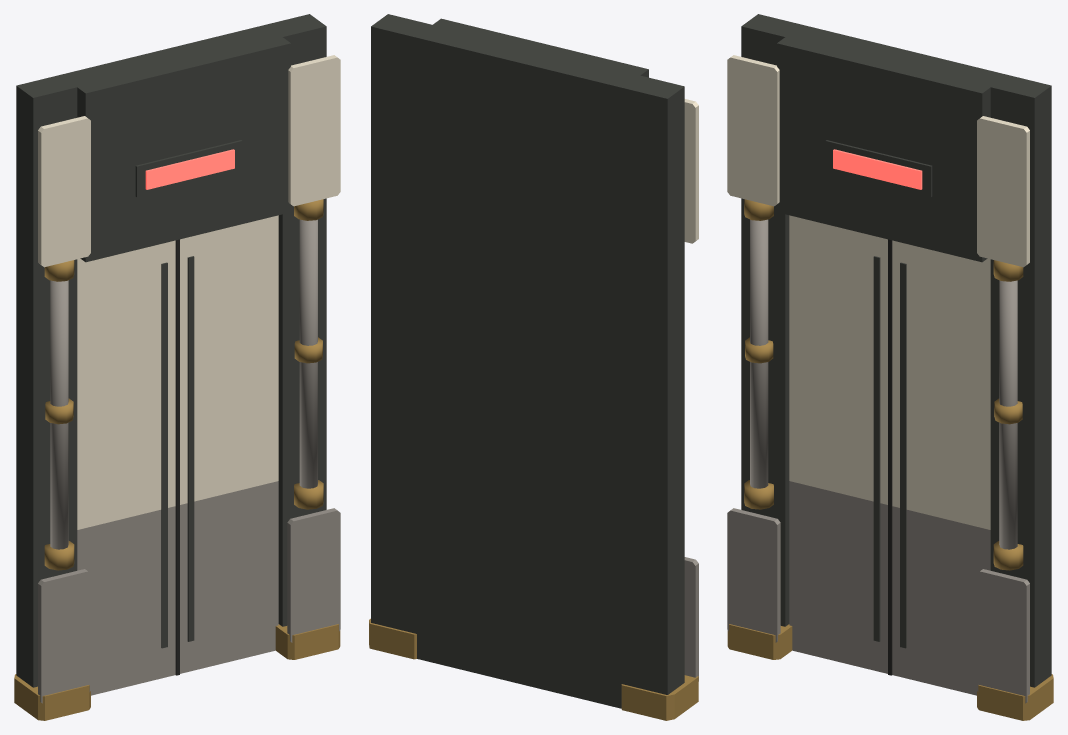
Rendered from b3_door.glb.
3 views of the same model, side by side, from view 1: azimuth 30°, elevation 25°; view 2: azimuth 150°, elevation 25°; view 3: azimuth 330°, elevation 25° (orthographic).
Visible parts, largest first — view 1: b3_door; view 2: b3_door; view 3: b3_door.
Part boxes in pixels (box(x1,y1,x2,y2)): b3_door: box(14, 14, 340, 720); b3_door: box(369, 14, 698, 720); b3_door: box(727, 14, 1053, 720).
Bounding box in the file's own units: 2.06 × 4 × 0.355.
